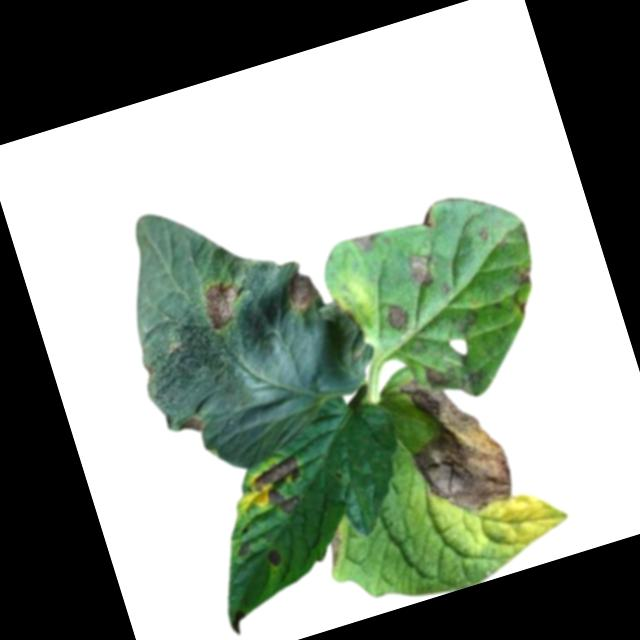Early_blight: (390, 362, 519, 522), (251, 453, 311, 521), (196, 275, 249, 334), (278, 267, 322, 317), (400, 247, 440, 290), (322, 526, 350, 569), (174, 408, 209, 437), (384, 302, 410, 332), (350, 228, 380, 254), (226, 607, 251, 637), (424, 361, 451, 387), (511, 263, 535, 287), (263, 545, 282, 568), (417, 208, 435, 229), (234, 539, 252, 555)
